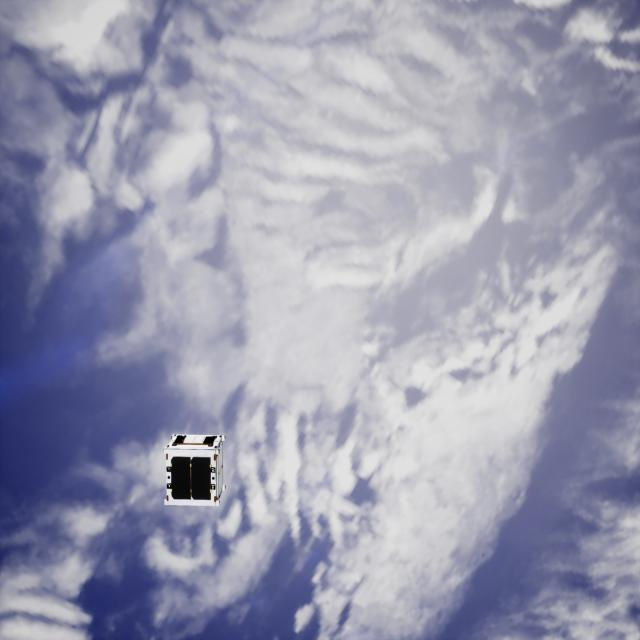satellite: (155, 425, 224, 508)
